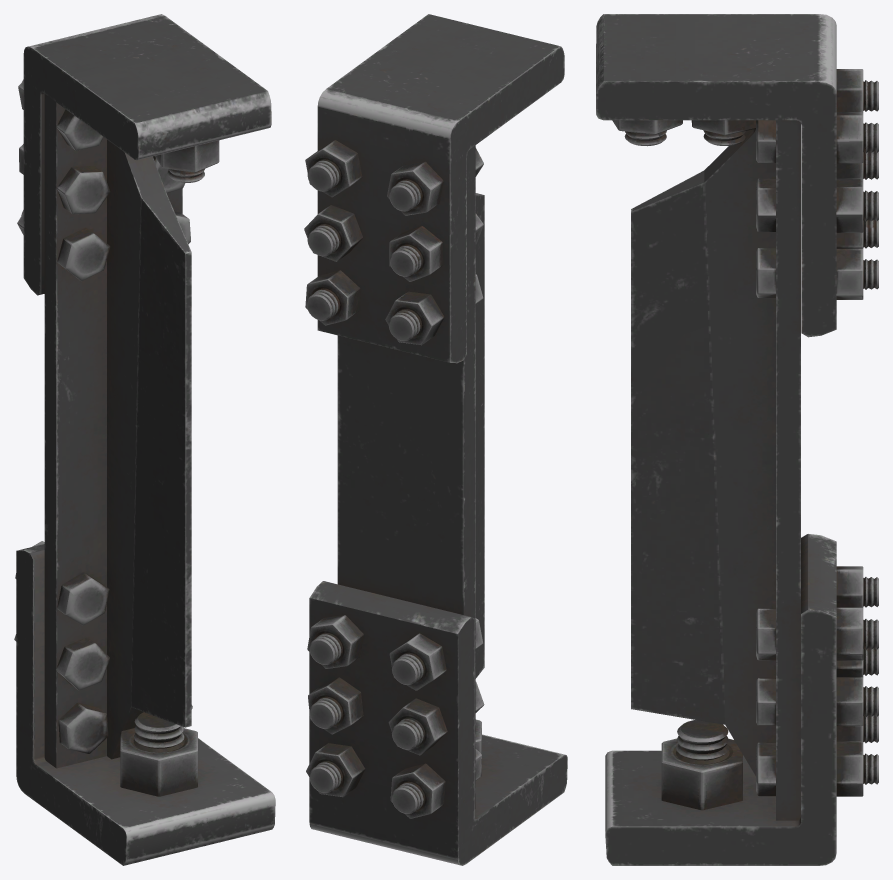
File: Neck_Hammer_9.glb
3 renders of one model, left to right at view 1: azimuth 30°, elevation 25°; view 2: azimuth 150°, elevation 25°; view 3: azimuth 270°, elevation 25°, orthographic. The views are drawn at different scales.
Parts seen in each view (by area): view 1: Neck_Hammer_9_LOD0; view 2: Neck_Hammer_9_LOD0; view 3: Neck_Hammer_9_LOD0.
Boxes of the visible parts, <box> form: Neck_Hammer_9_LOD0: <box>14,14,275,865</box>; Neck_Hammer_9_LOD0: <box>304,14,567,865</box>; Neck_Hammer_9_LOD0: <box>596,14,878,865</box>.
Size of the model in its own units: 0.0373 by 0.1782 by 0.0586.
1 material, 1 textured.
